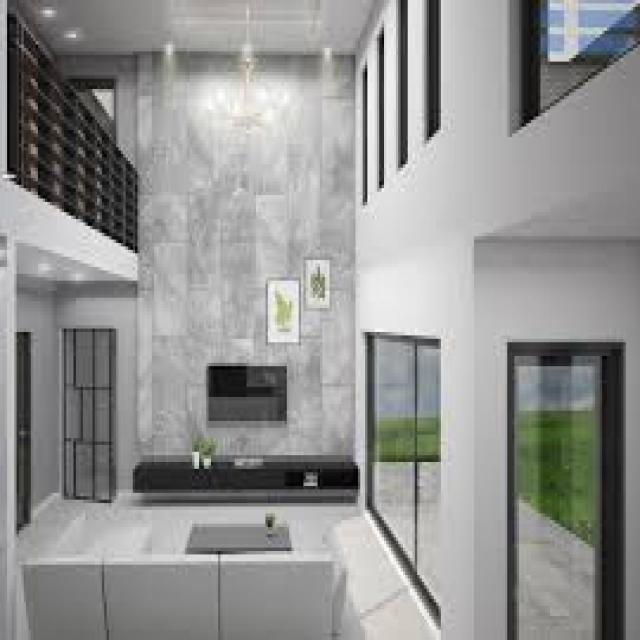Sofa: (18, 549, 350, 640)
Table: (185, 516, 291, 552)
tv: (205, 360, 289, 428)
window: (511, 348, 612, 634), (367, 336, 444, 614)
